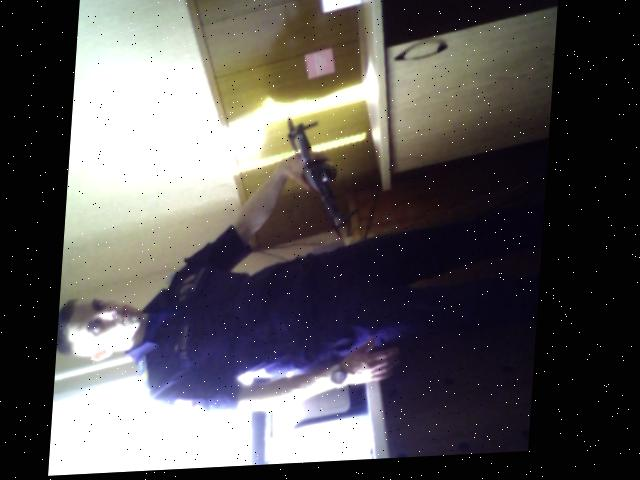drone: (274, 110, 380, 250)
